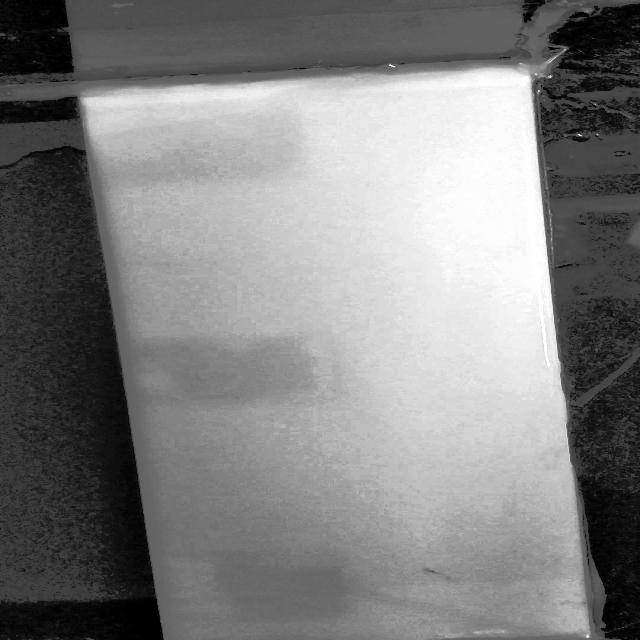shrimp: (420, 559, 469, 584)
